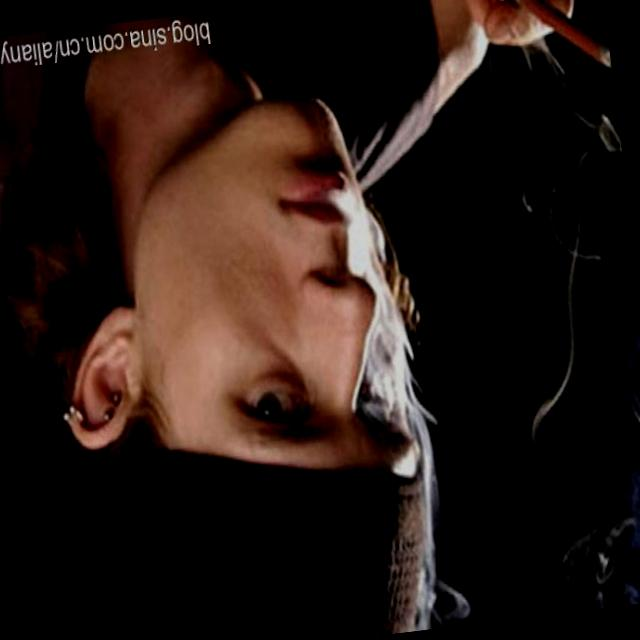smoke: (440, 0, 613, 101)
